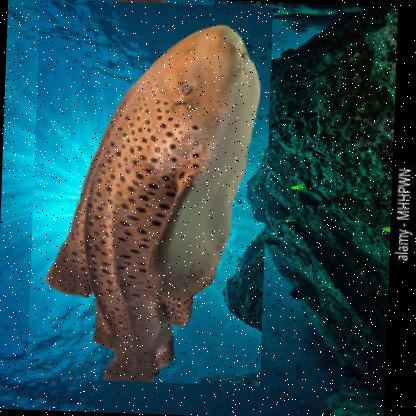zebra_shark: (26, 0, 274, 386)
